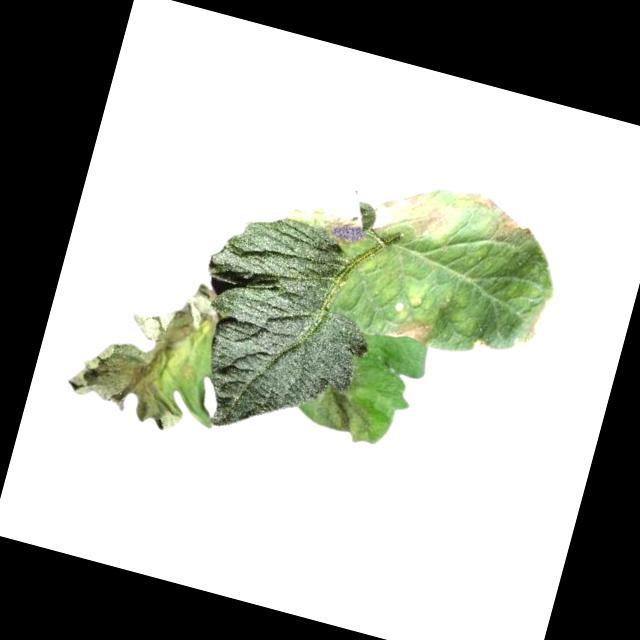Late_blight: (61, 254, 225, 436), (368, 177, 457, 248), (459, 190, 539, 253), (307, 383, 381, 448), (388, 309, 439, 347), (521, 294, 551, 348), (467, 335, 489, 357)
healthy: (169, 203, 393, 458)
